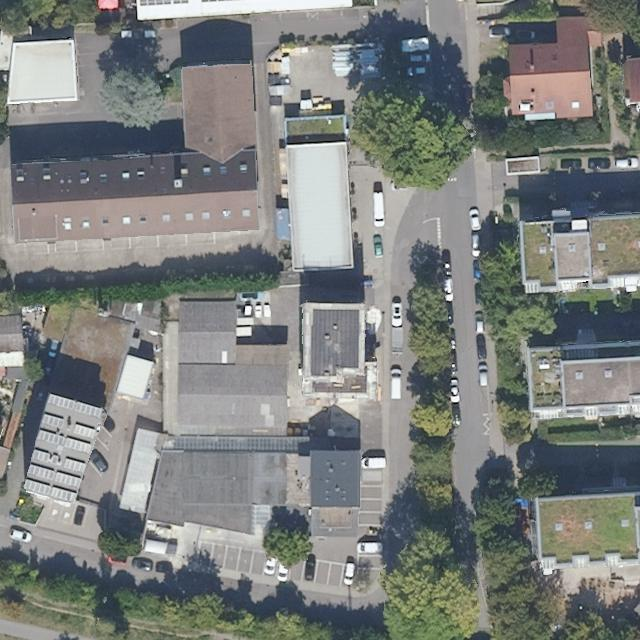PV: (34, 427, 94, 457), (24, 461, 83, 491), (21, 477, 78, 505), (46, 392, 104, 418), (69, 421, 99, 443), (61, 454, 87, 476), (39, 411, 66, 430), (29, 447, 53, 466)
